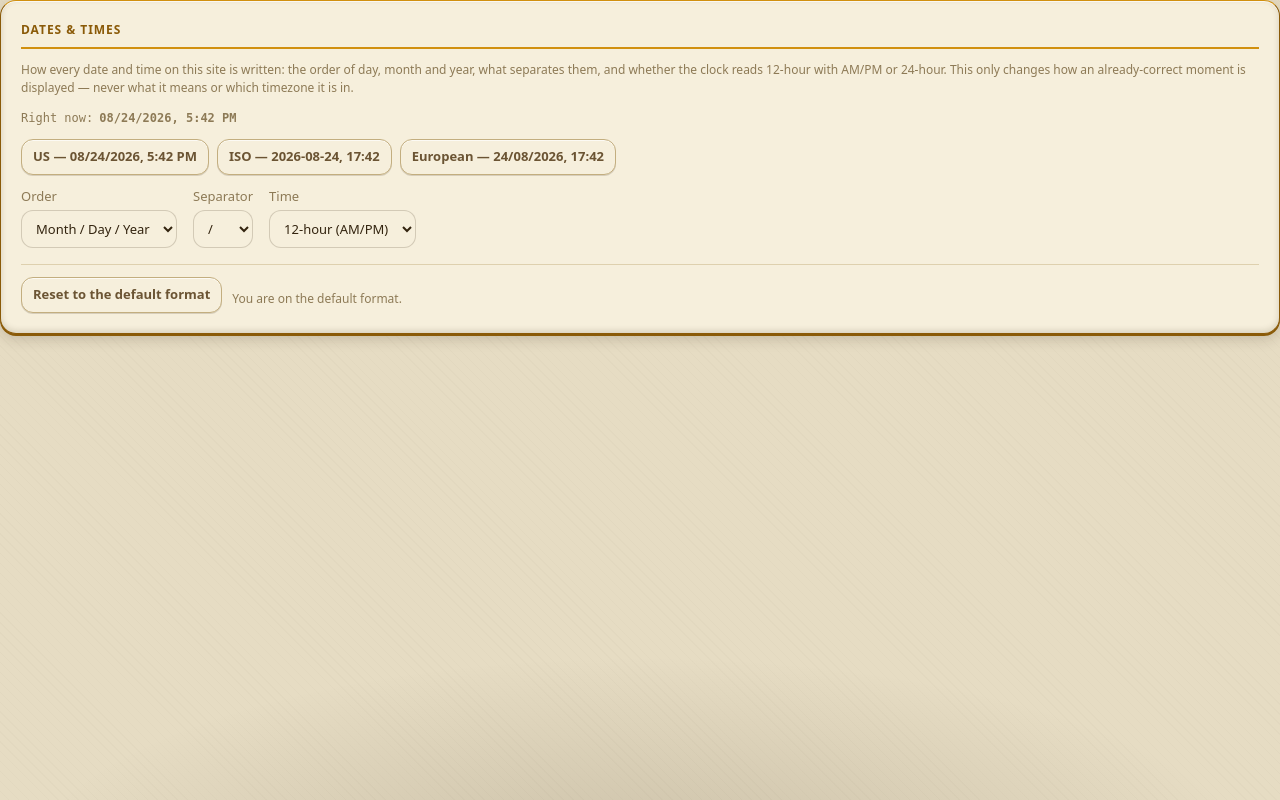
Test: choosing a date/time format › changing the separator updates the preview
Select "-" in the dropdown named "Date separator" at (223, 229), box [193,210,253,248]
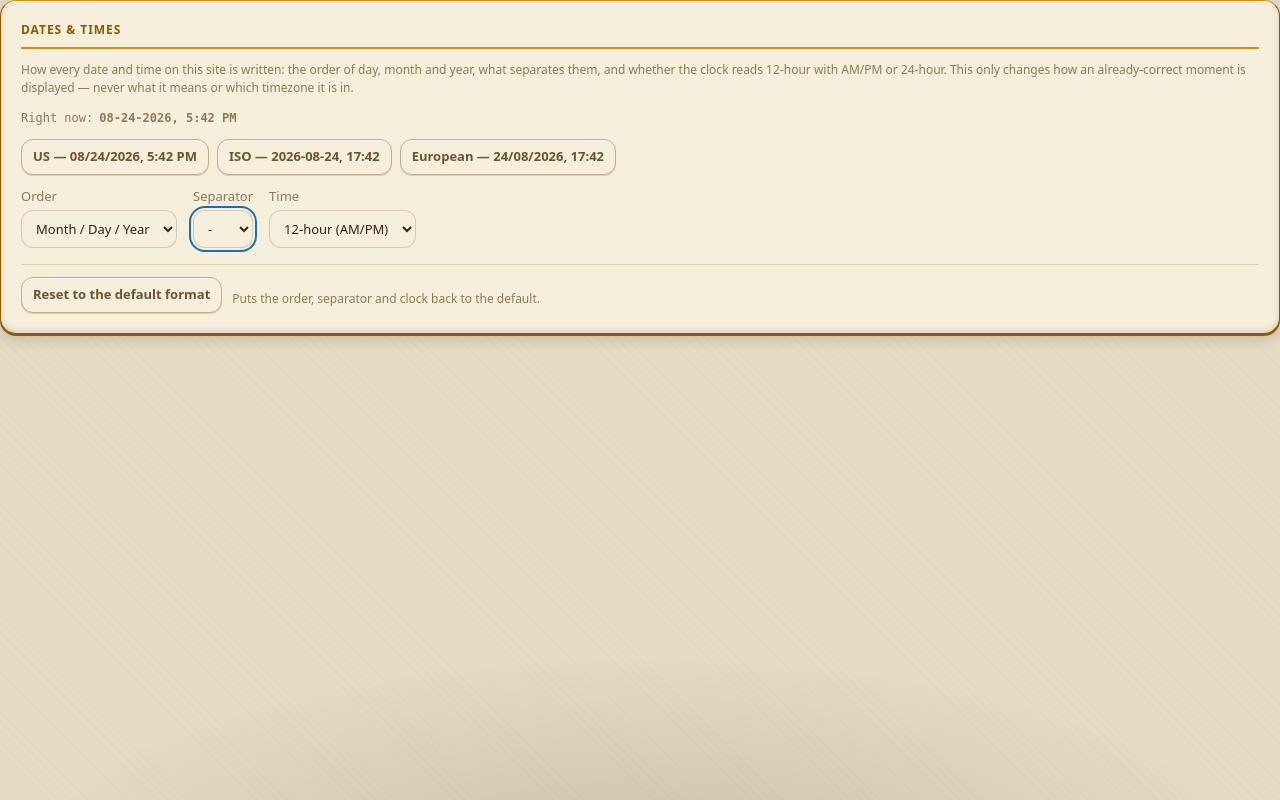
Result: the text "08-24-2026, 5:42 PM" is shown at [99,109,237,127]
